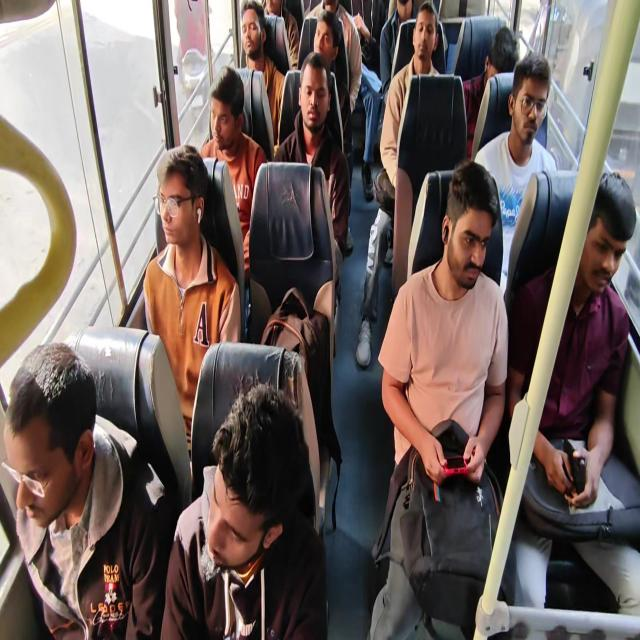person: (177, 365, 282, 640), (0, 330, 123, 499), (418, 156, 537, 298), (586, 182, 640, 357), (158, 151, 221, 291), (516, 67, 579, 173), (199, 68, 260, 145), (309, 12, 349, 80), (490, 31, 531, 96), (411, 9, 454, 64), (294, 59, 324, 134), (358, 0, 389, 54), (239, 3, 269, 49), (391, 0, 412, 43), (270, 0, 286, 30)
